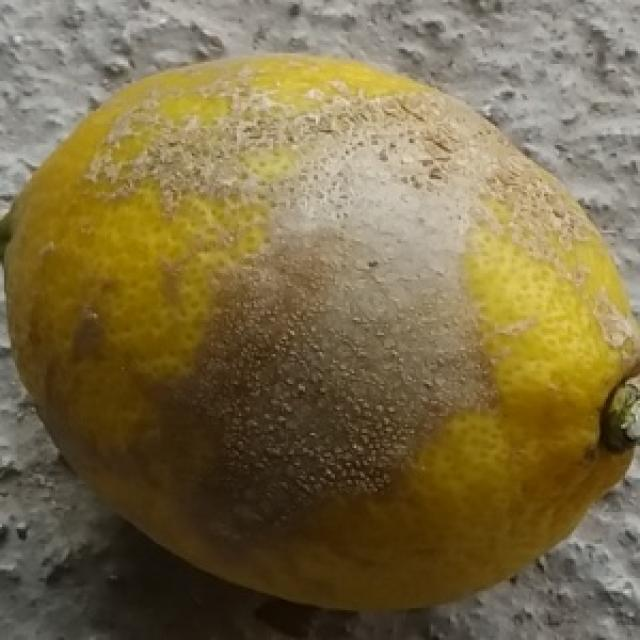overripe: (0, 39, 640, 617)
